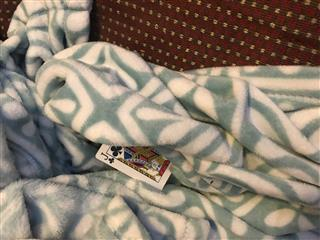JackOfClubs: (94, 142, 171, 190)
